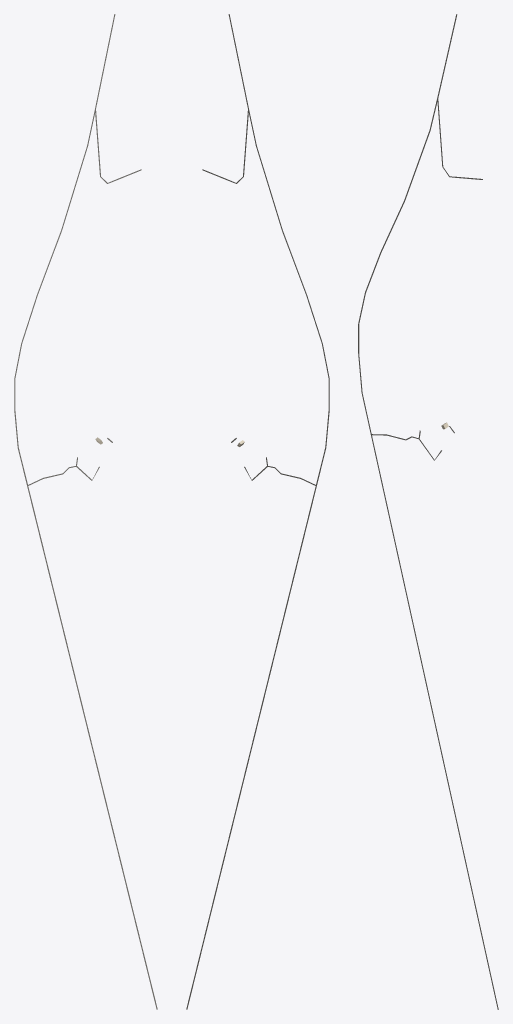
File: historic-palestine-14_37_3556_3313.glb
The picture shows the model from 3 angles, left to right: view 1: azimuth 30°, elevation 25°; view 2: azimuth 150°, elevation 25°; view 3: azimuth 330°, elevation 25°; orthographic projection. The views are drawn at different scales.
Parts seen in each view (by area): view 1: Road .004; view 2: Road .004; view 3: Road .004.
Boxes of the visible parts, x1=… form: Road .004: x1=14, y1=183, x2=157, y2=1009; Road .004: x1=186, y1=183, x2=329, y2=1009; Road .004: x1=358, y1=161, x2=498, y2=1009.
Bounding box in the file's own units: 169 × 1130 × 8.7.
